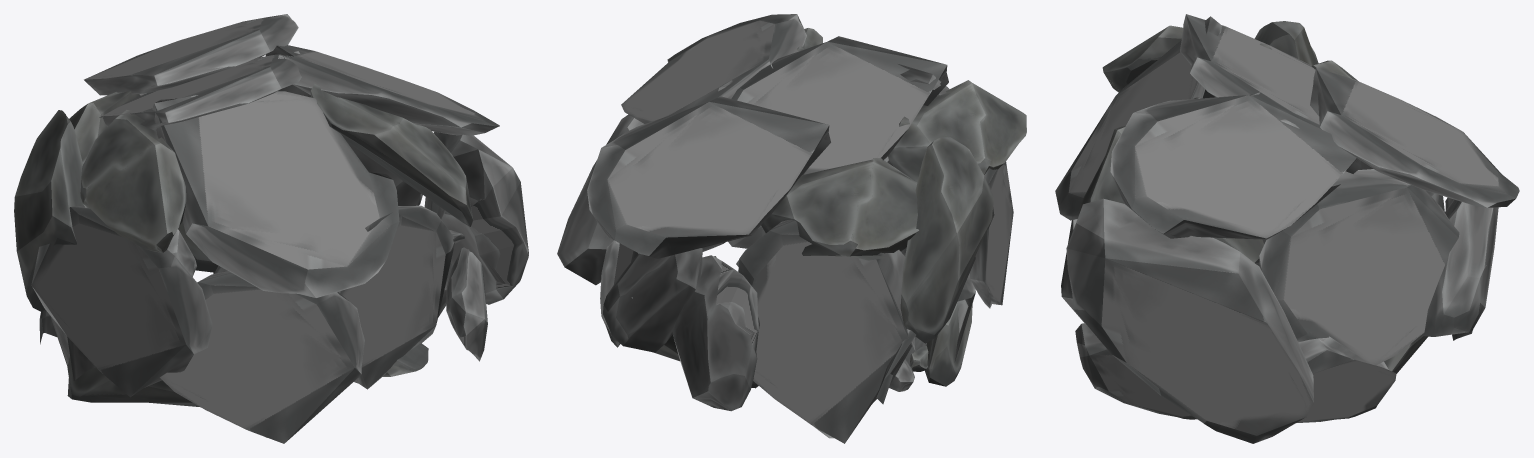
File: caveSeparated.fbx
3 views of the same model, side by side, from view 1: azimuth 30°, elevation 25°; view 2: azimuth 150°, elevation 25°; view 3: azimuth 270°, elevation 25° (orthographic). The views are drawn at different scales.
Parts seen in each view (by area): view 1: Roof, CaveBase; view 2: Roof, CaveBase; view 3: CaveBase, Roof.
Boxes of the visible parts, x1=… form: Roof: x1=14, y1=14, x2=499, y2=311; CaveBase: x1=31, y1=84, x2=528, y2=443; Roof: x1=587, y1=14, x2=1026, y2=343; CaveBase: x1=557, y1=114, x2=1013, y2=443; CaveBase: x1=1061, y1=161, x2=1498, y2=443; Roof: x1=1055, y1=14, x2=1519, y2=239.
Size of the model in its own units: 42037 by 31656 by 40856.
